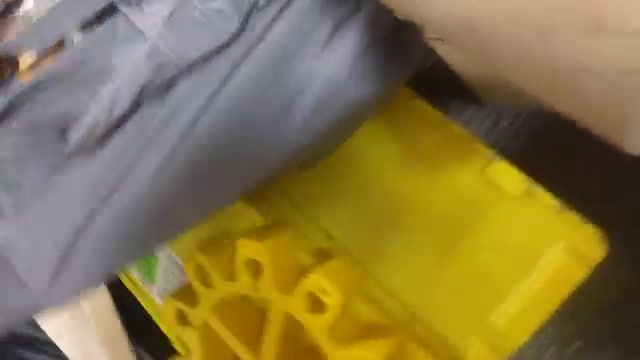gear: (125, 236, 419, 360)
